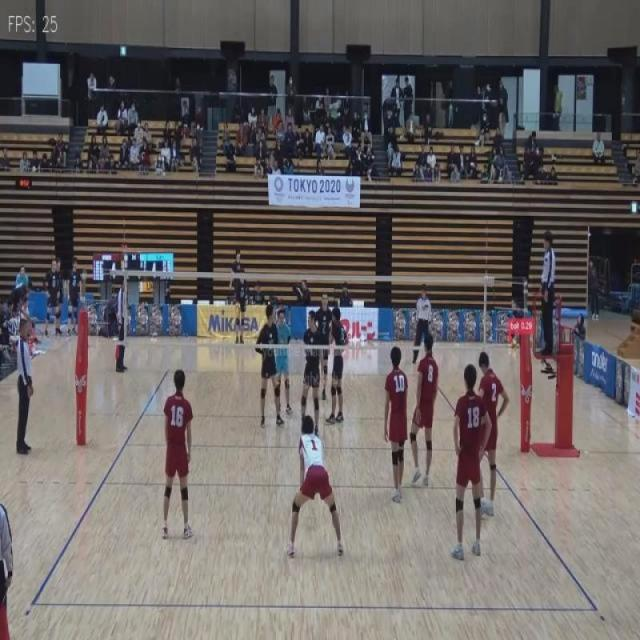volleyball: (235, 300, 241, 312), (511, 339, 517, 349)
